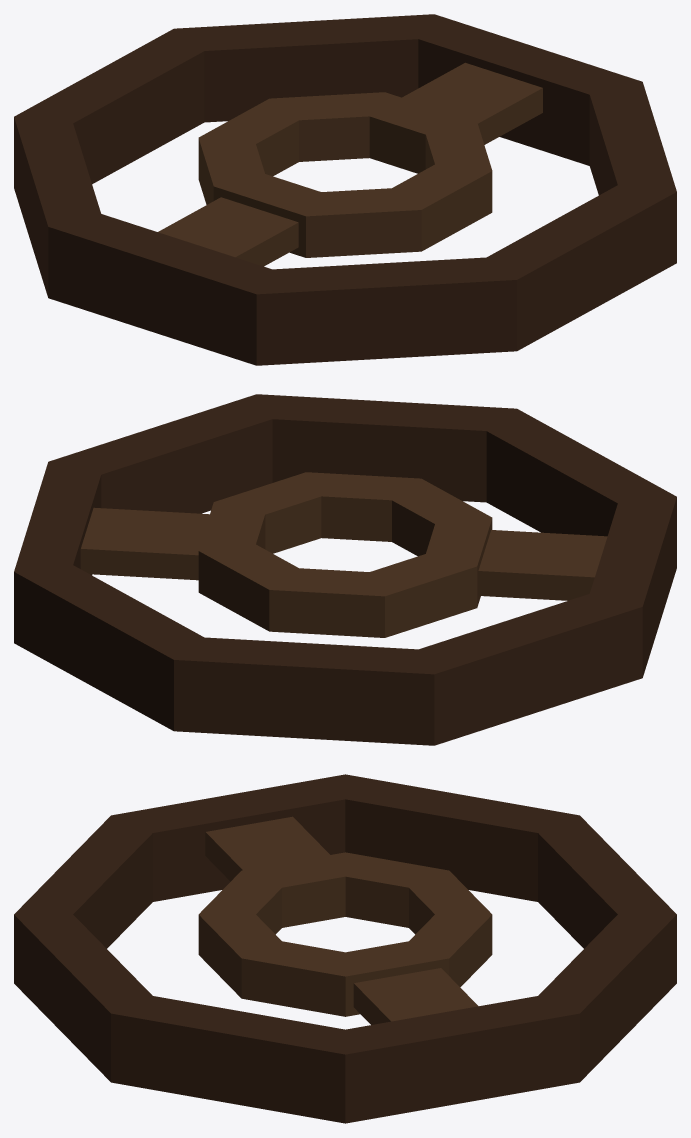
File: Tribal_Plains_Windmill_Grain_Bearing_Ring_Timber_01.fbx
3 views of the same model, one above another, from view 1: azimuth 30°, elevation 25°; view 2: azimuth 150°, elevation 25°; view 3: azimuth 270°, elevation 25° (orthographic). The views are drawn at different scales.
Parts seen in each view (by area): view 1: Tribal_Plains_Windmill_Grain_Bearing_Ring_Timber_01; view 2: Tribal_Plains_Windmill_Grain_Bearing_Ring_Timber_01; view 3: Tribal_Plains_Windmill_Grain_Bearing_Ring_Timber_01.
Part boxes in pixels (<box>): Tribal_Plains_Windmill_Grain_Bearing_Ring_Timber_01: <box>14,14,676,365</box>; Tribal_Plains_Windmill_Grain_Bearing_Ring_Timber_01: <box>14,394,676,745</box>; Tribal_Plains_Windmill_Grain_Bearing_Ring_Timber_01: <box>14,774,676,1123</box>.
Size of the model in its own units: 2.49 by 0.286 by 2.49.
